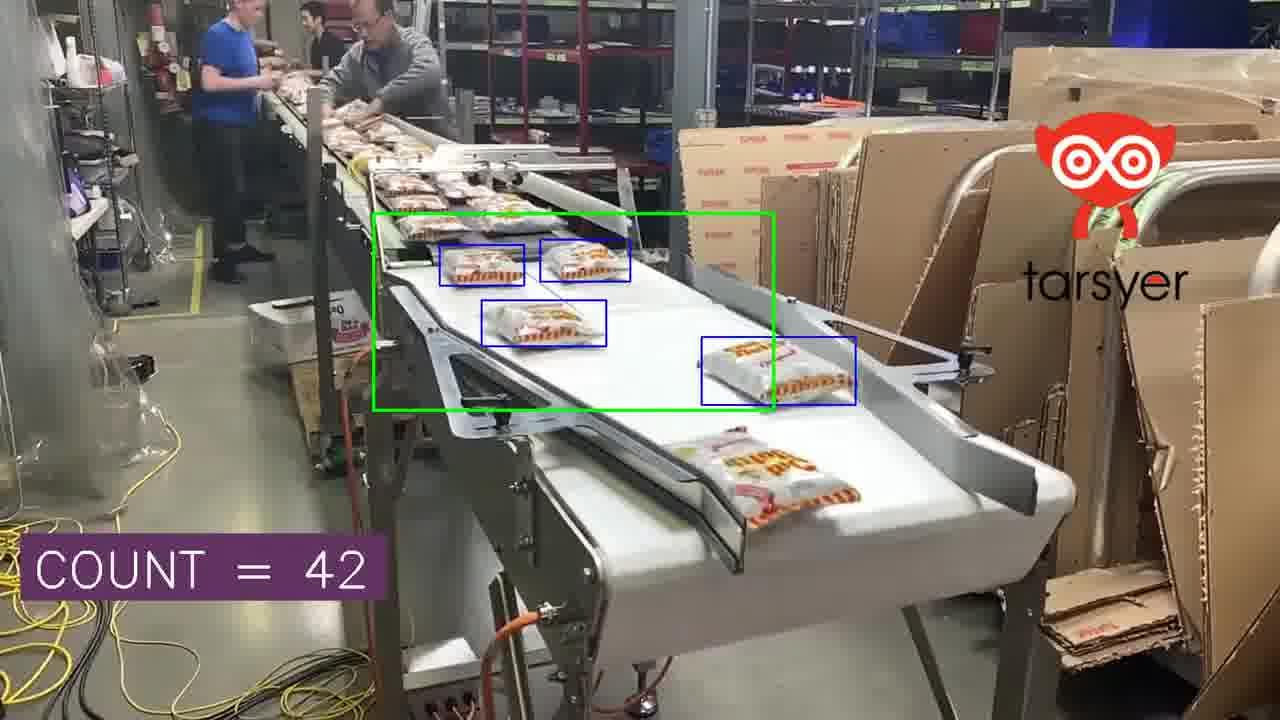Snack: (668, 428, 860, 529), (485, 302, 598, 346), (776, 339, 852, 403), (468, 194, 564, 234), (543, 240, 628, 280), (440, 247, 523, 284), (397, 215, 468, 241), (373, 173, 435, 195), (437, 179, 497, 201), (277, 72, 313, 106), (350, 147, 394, 174), (388, 193, 448, 211), (391, 135, 433, 157), (363, 121, 403, 144), (323, 126, 368, 146), (328, 139, 376, 157), (334, 99, 368, 122), (322, 117, 344, 132)
